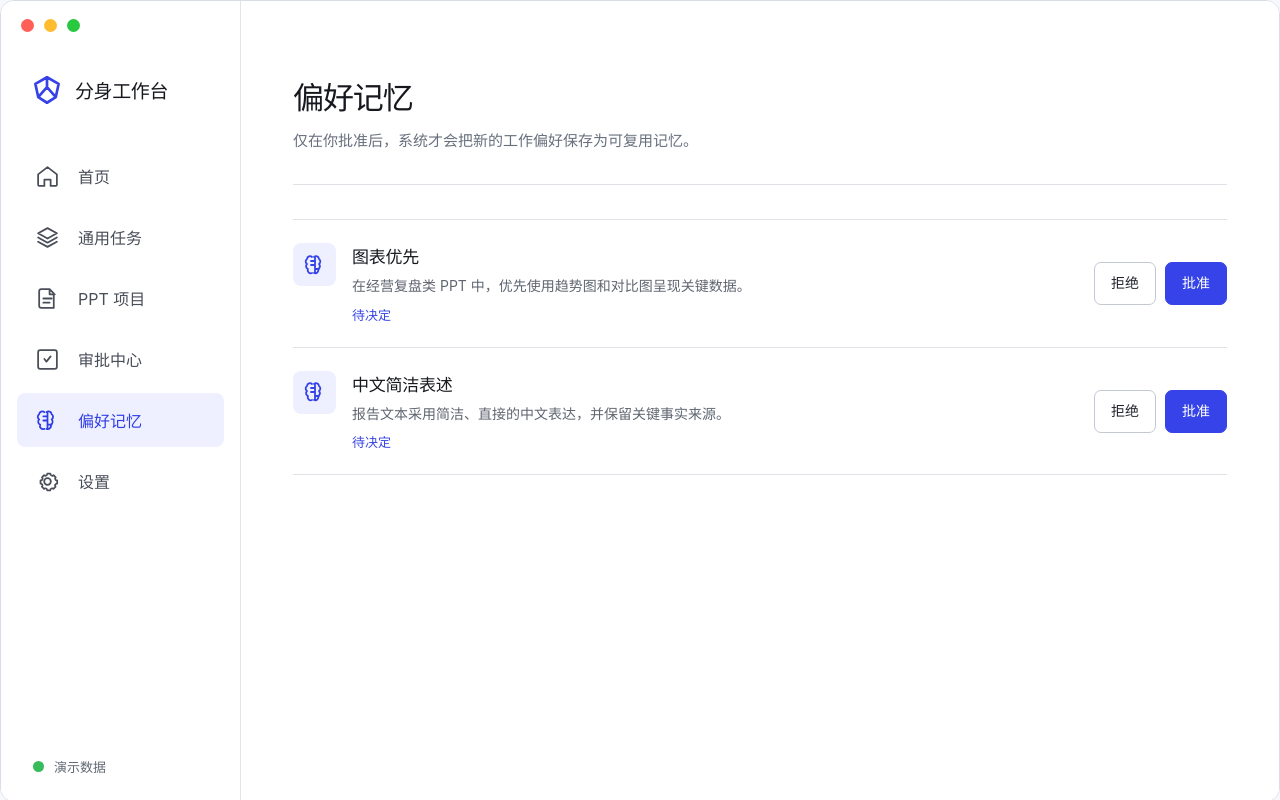
desktop workbench interactions › records a memory decision instead of leaving the action inert
Click the button with aria-label "批准偏好：图表优先": (1196, 283) [1165, 262, 1227, 305]
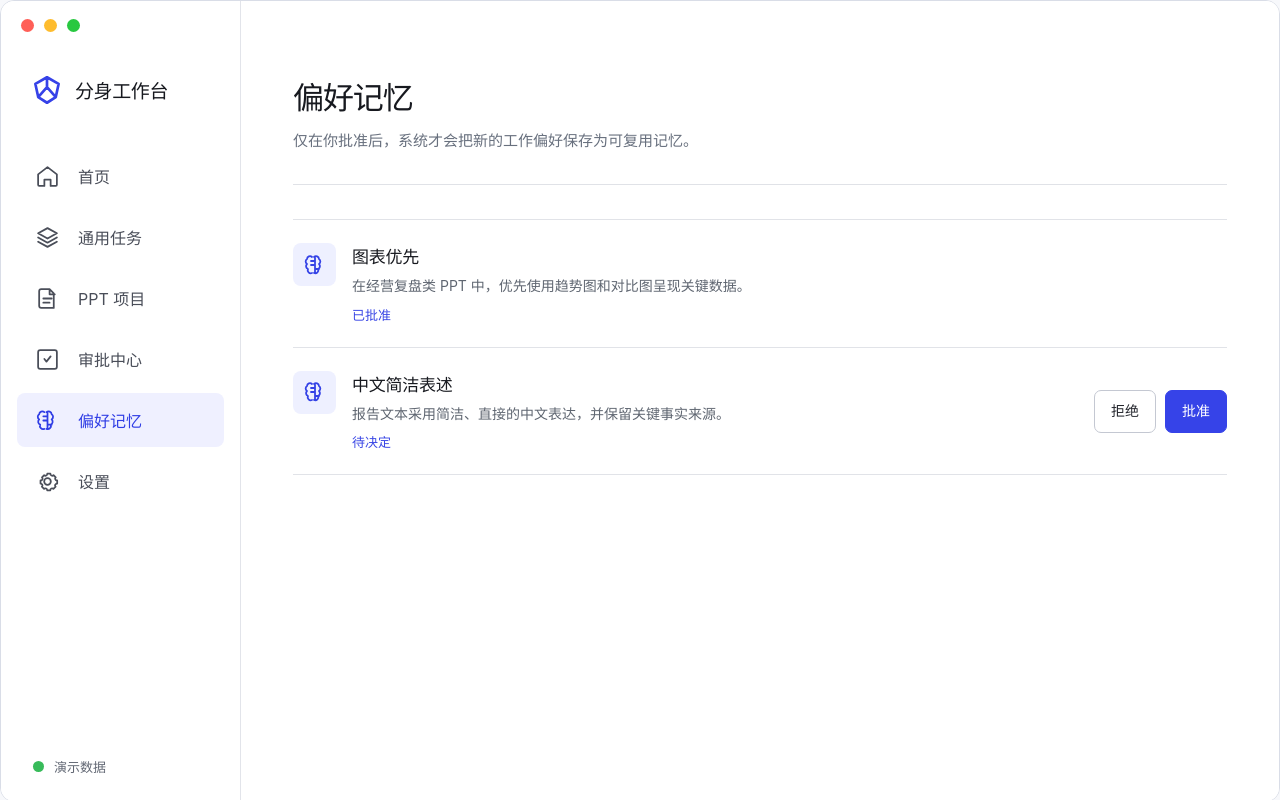
Expected: the text "已批准" is shown, [352, 307, 391, 323]
